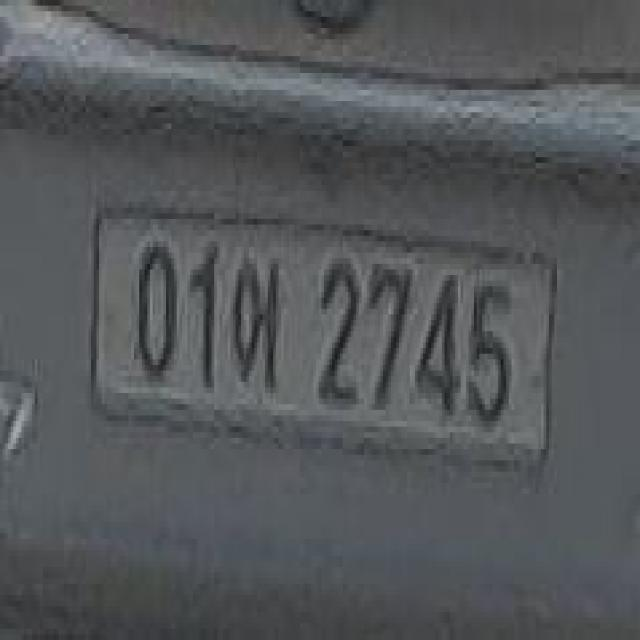illegal_plate: (92, 194, 555, 482)
